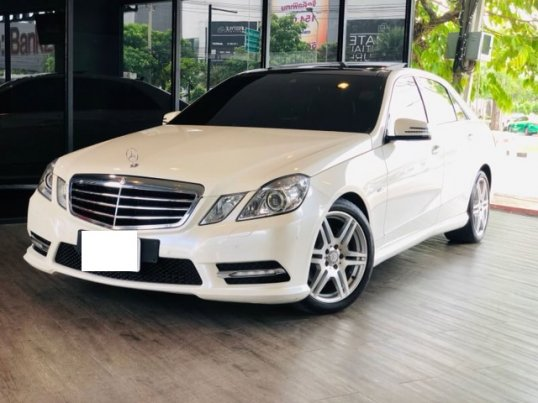sedan: (21, 58, 498, 314)
